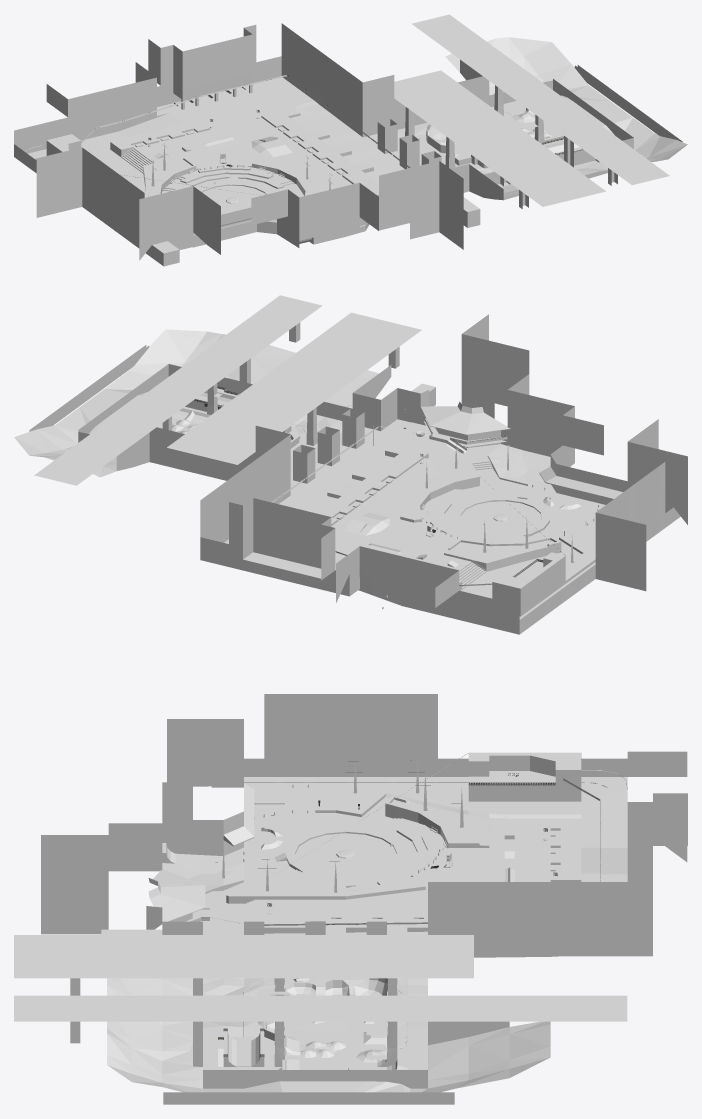
The picture shows the model from 3 angles, top to bottom: view 1: azimuth 30°, elevation 25°; view 2: azimuth 150°, elevation 25°; view 3: azimuth 270°, elevation 25°; orthographic projection. The views are drawn at different scales.
Visible parts, largest first — view 1: SKPH_Col_Floor, SKPH_Col_Ride, SKPH_Col_Wall, SKPH_Col_Pipe; view 2: SKPH_Col_Floor, SKPH_Col_Ride, SKPH_Col_Wall, SKPH_Col_Pipe; view 3: SKPH_Col_Floor, SKPH_Col_Ride, SKPH_Col_Wall, SKPH_Col_Pipe.
Part boxes in pixels (<box>): SKPH_Col_Floor: <box>25,14,687,253</box>; SKPH_Col_Ride: <box>14,23,633,260</box>; SKPH_Col_Wall: <box>26,28,682,266</box>; SKPH_Col_Pipe: <box>299,97,611,243</box>; SKPH_Col_Floor: <box>14,295,622,619</box>; SKPH_Col_Ride: <box>78,314,687,634</box>; SKPH_Col_Wall: <box>29,322,680,616</box>; SKPH_Col_Pipe: <box>95,388,550,460</box>; SKPH_Col_Floor: <box>14,752,627,1092</box>; SKPH_Col_Ride: <box>41,694,687,1088</box>; SKPH_Col_Wall: <box>70,757,652,1104</box>; SKPH_Col_Pipe: <box>162,843,412,1069</box>.
Size of the model in its own units: 336 by 44.66 by 258.
47 materials, 45 textured.
